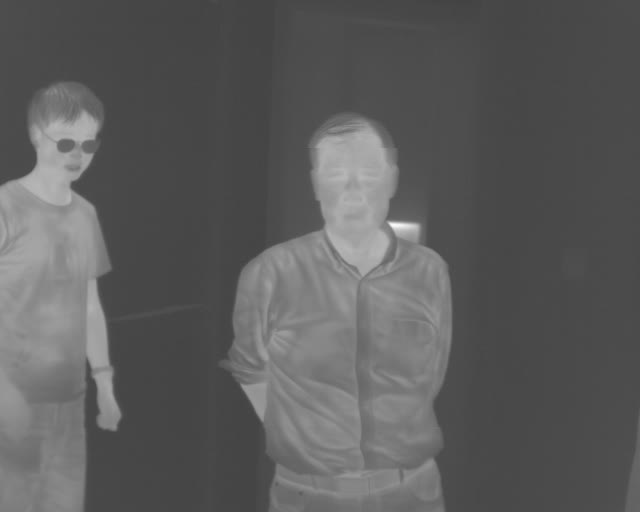face: (307, 111, 401, 242), (27, 79, 107, 184)
